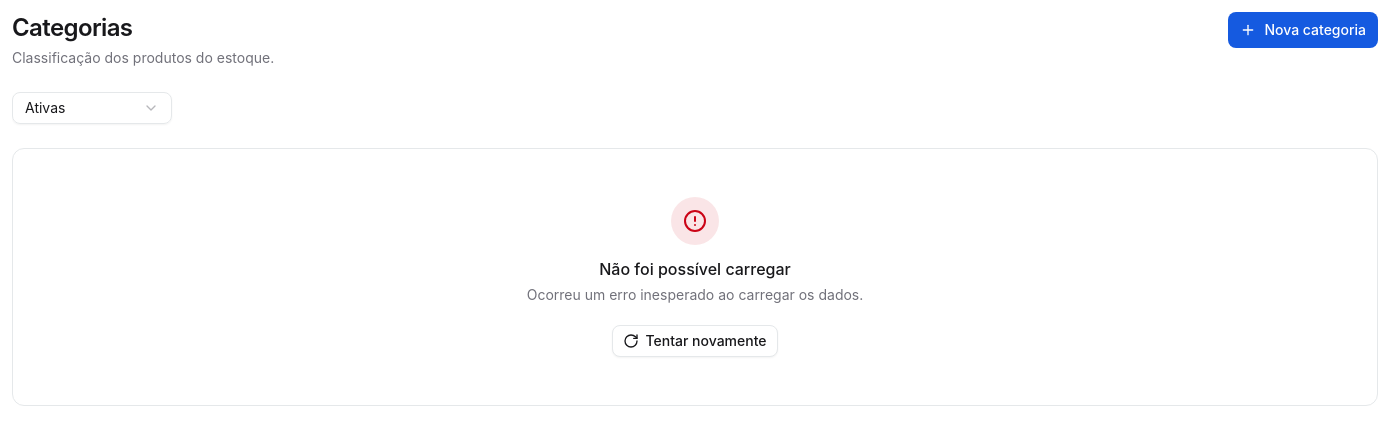
it: CategoriesPage › listagem › estado de erro, com nova tentativa
Expected: the text "Ocorreu um erro inesperado ao carregar os dados." is shown, [527,285,863,305]
Click the button "Tentar novamente": (695, 341) [612,325,778,357]
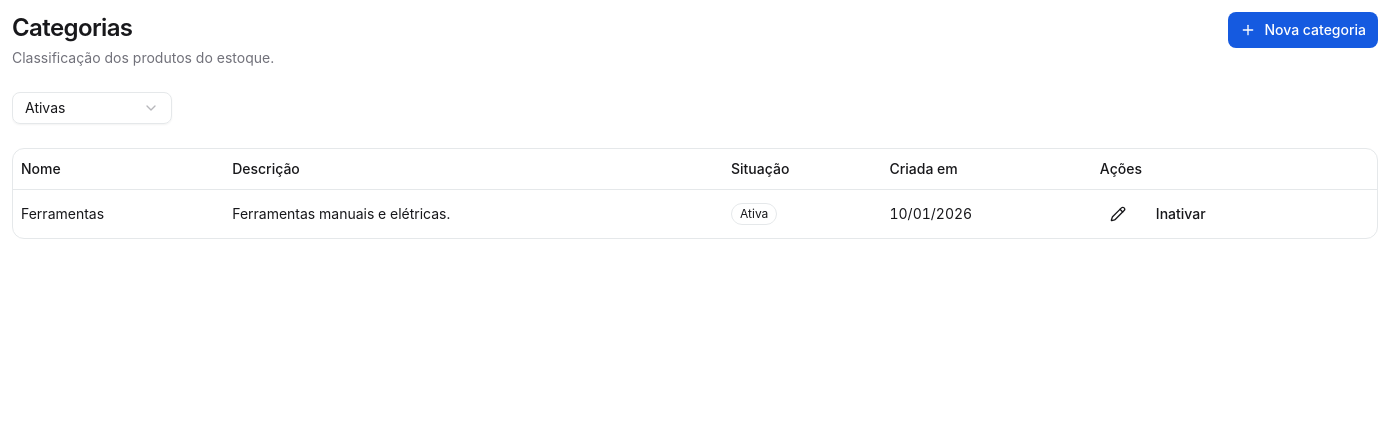
Now the text "Ferramentas" is shown, box [13,190,224,238]
